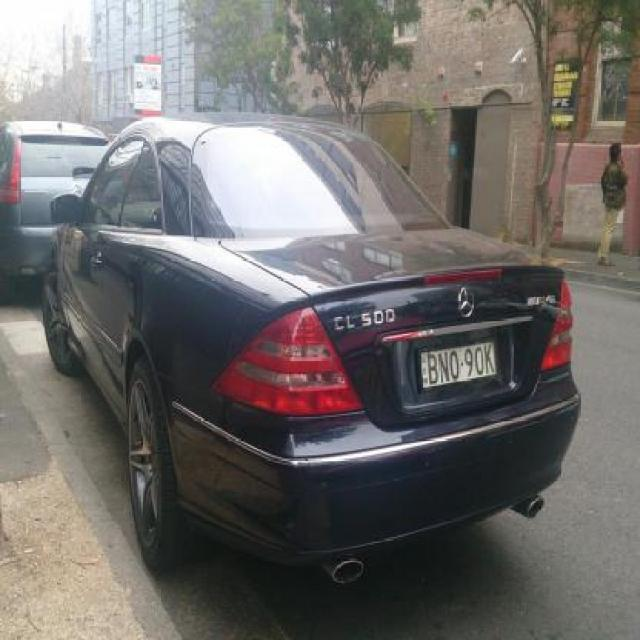License-Plates: (419, 344, 499, 386)
